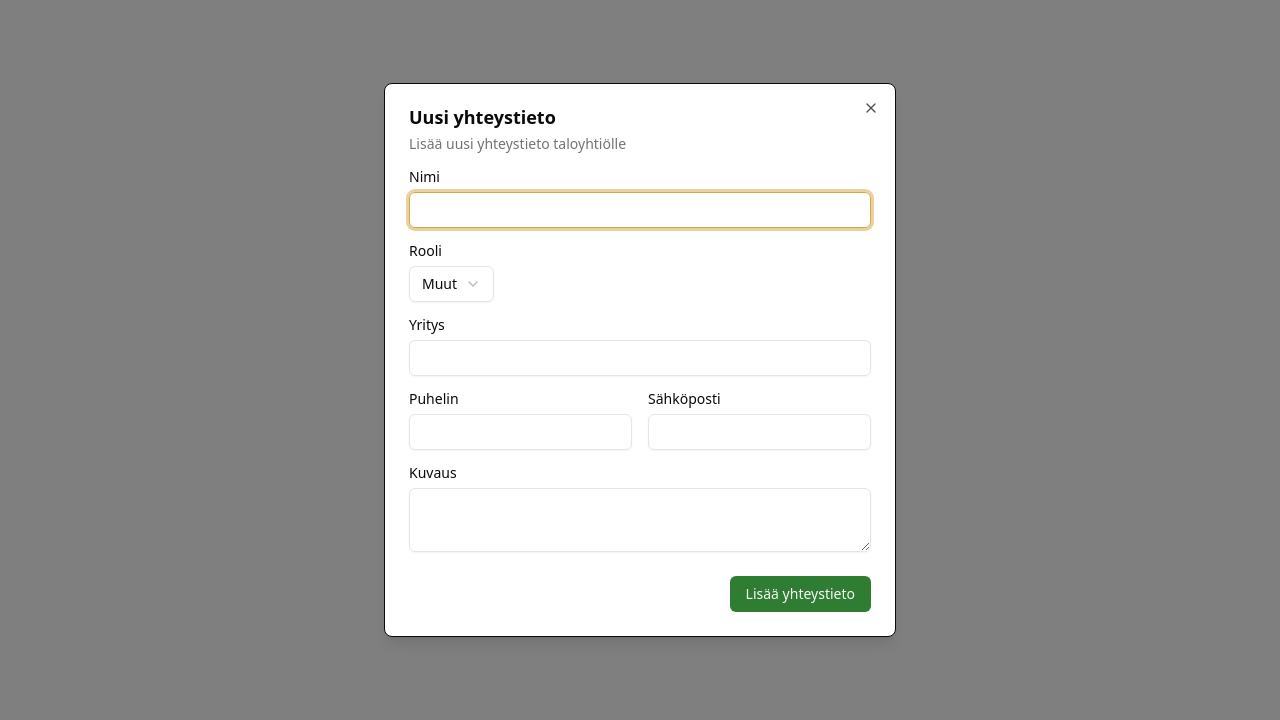
ContactFormDialog › shows validation errors when submitting empty form
Note: Clear the name field (it starts empty but clear just in case)
Step 1. Click the button "Lisää yhteystieto" → (800, 594), box [730,576,871,612]
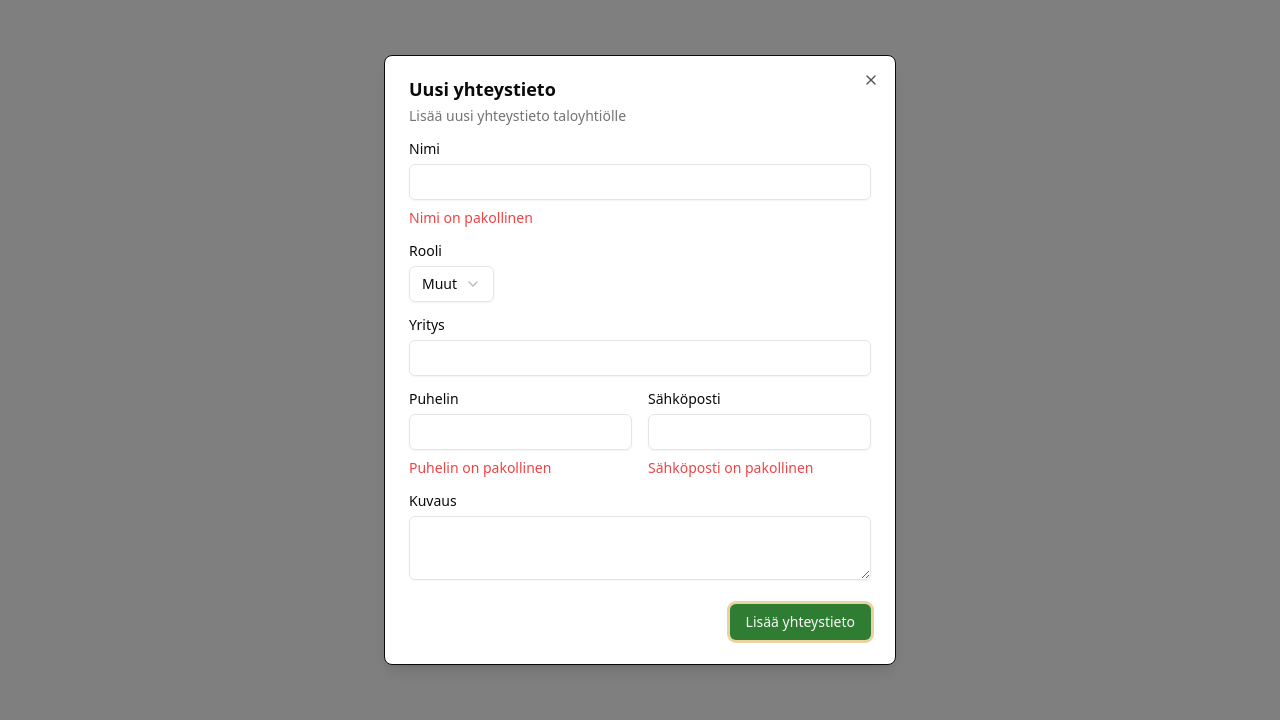
Result: the text "Nimi on pakollinen" is shown at [409,208,533,227]
Result: the text "Puhelin on pakollinen" is shown at [409,458,551,477]
Result: the text "Sähköposti on pakollinen" is shown at [648,458,813,477]
